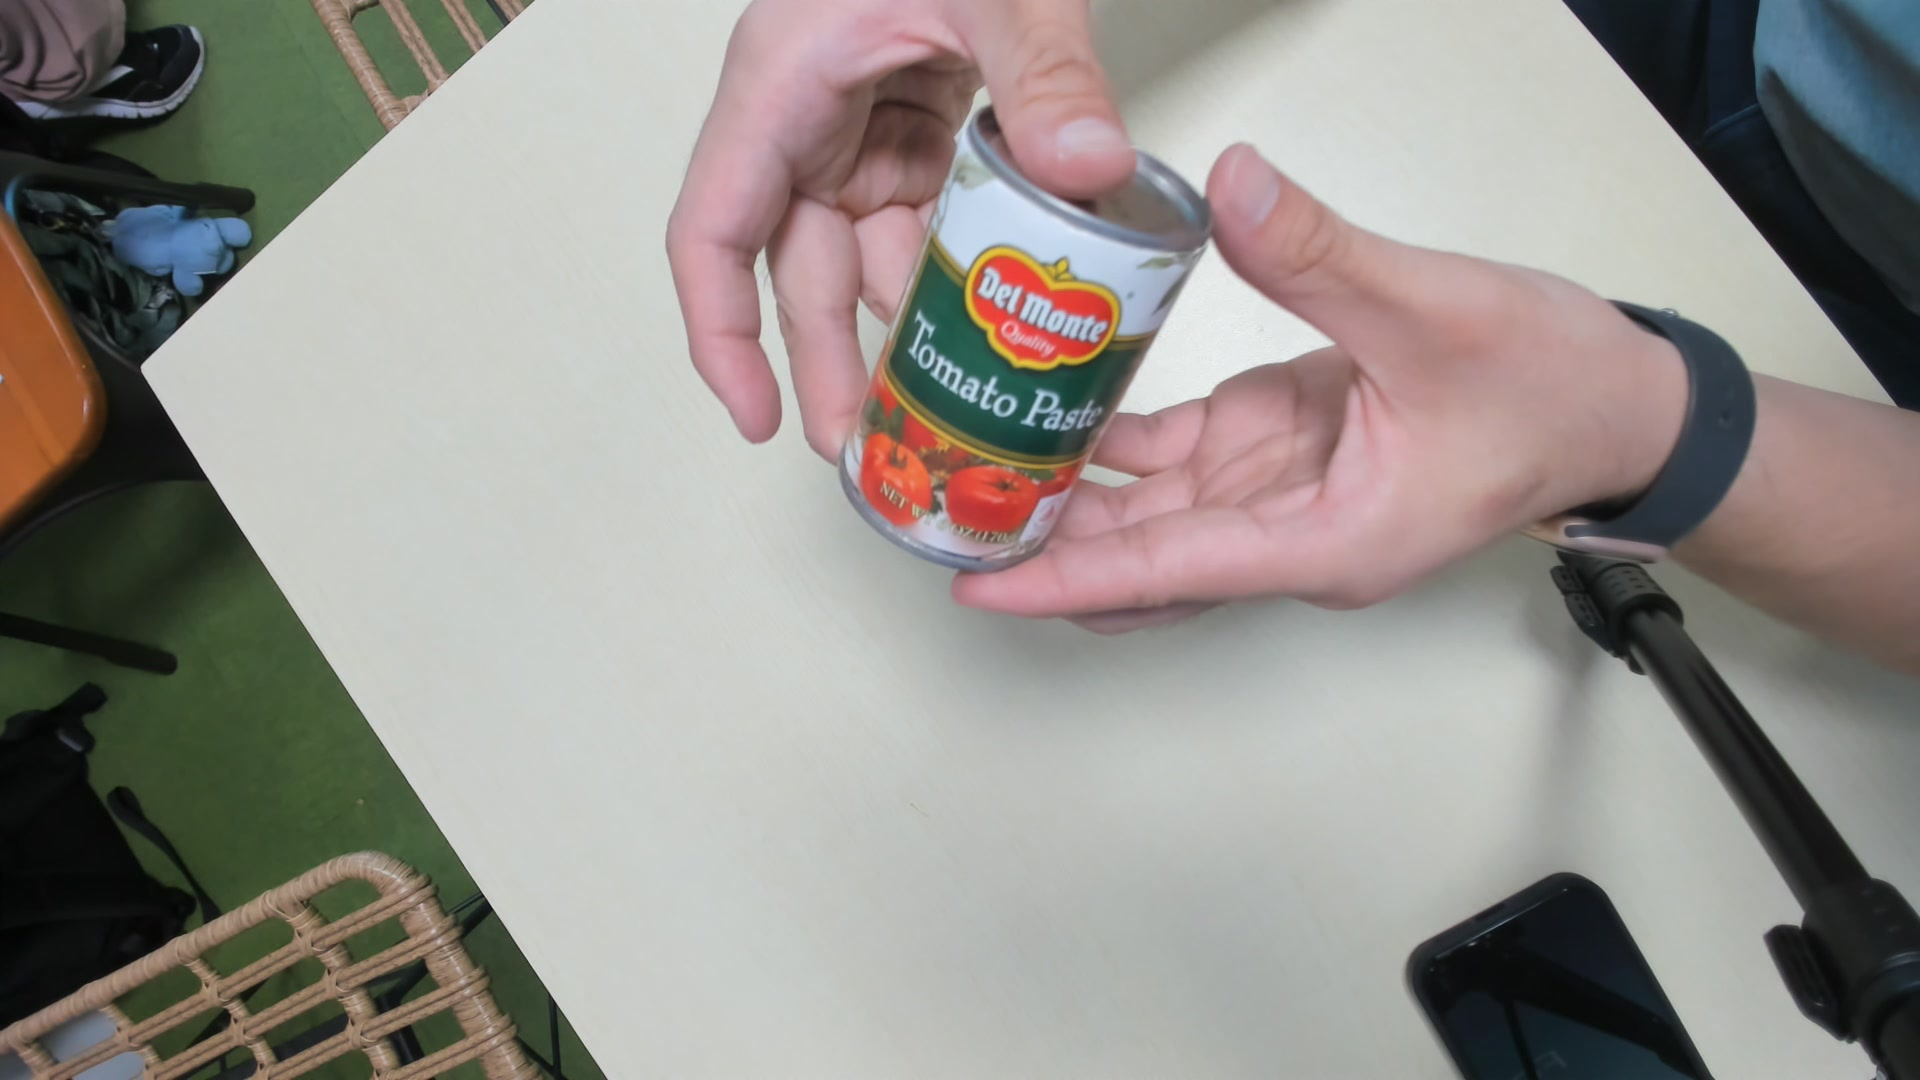OtherSauceDressing_100-199g_NonHalal_Healthy: (833, 102, 1215, 580)
